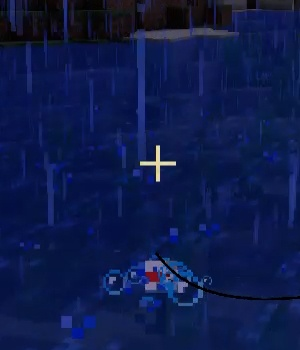up: (141, 251, 184, 306)
